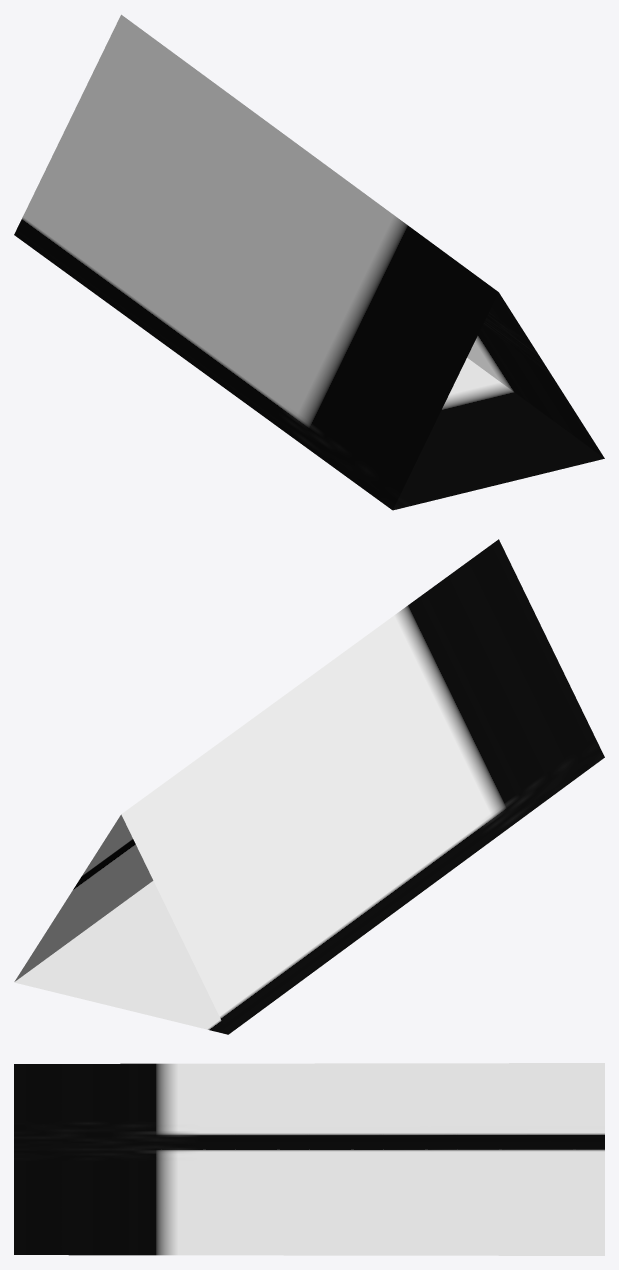
Rendered from OuterGrid_tunnel.fbx.
3 views of the same model, one above another, from view 1: azimuth 30°, elevation 25°; view 2: azimuth 150°, elevation 25°; view 3: azimuth 270°, elevation 25° (orthographic). The views are drawn at different scales.
Visible parts, largest first — view 1: OuterGrid_tunnel; view 2: OuterGrid_tunnel; view 3: OuterGrid_tunnel.
Boxes of the visible parts, x1,y1,x2,y2 form: OuterGrid_tunnel: (14, 14, 604, 510); OuterGrid_tunnel: (14, 539, 604, 1034); OuterGrid_tunnel: (14, 1063, 604, 1255).
Bounding box in the file's own units: 215 × 186 × 655.
